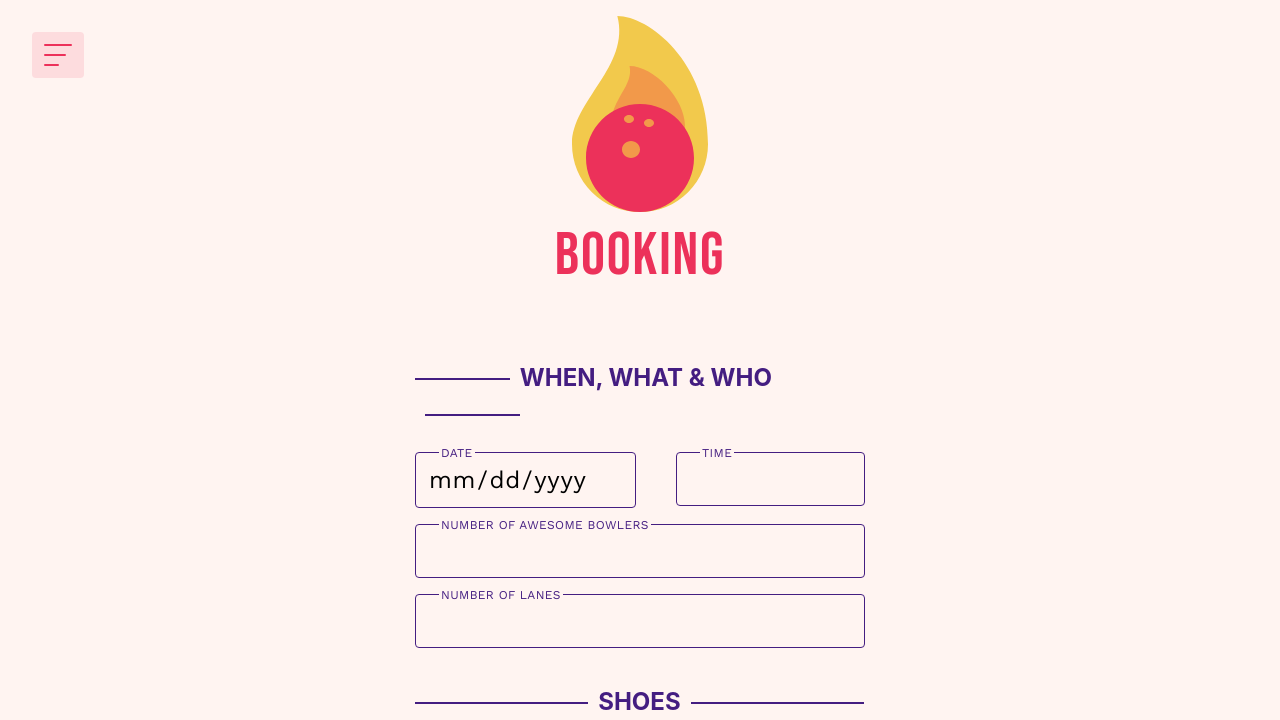
Test case: Navigation spec › should be able to click navigationbutton and show links
Click the picture with class "navigation__icon".
click(58, 55)  # box [32,32,84,78]
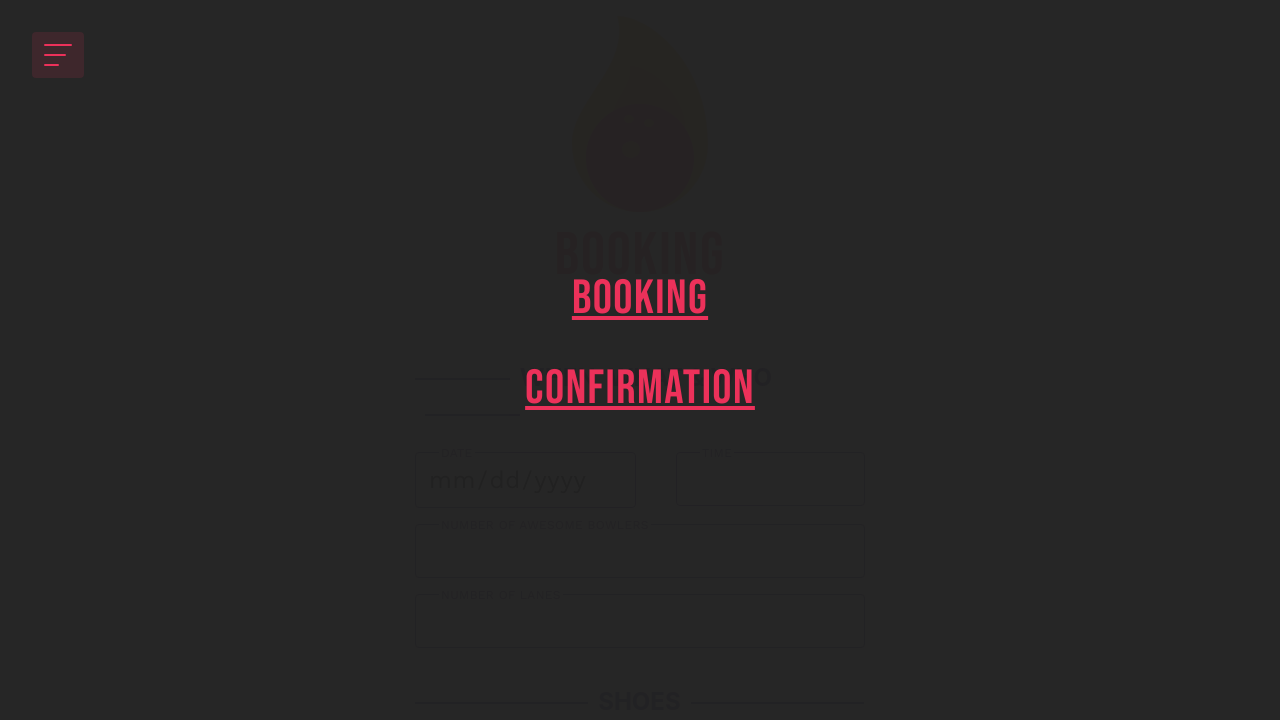
Expected: the link with class "navigation__link" showing "Booking" is shown, [572,270,708,328]
